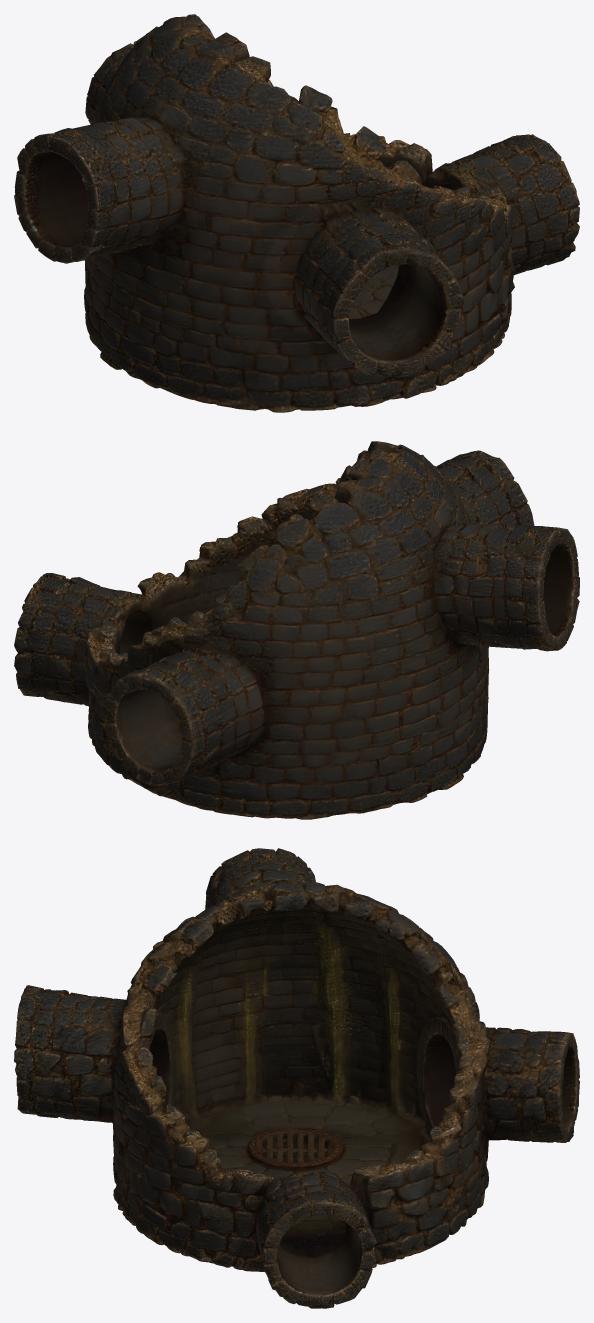
File: raw_chamber.glb
3 views of the same model, one above another, from view 1: azimuth 30°, elevation 25°; view 2: azimuth 150°, elevation 25°; view 3: azimuth 270°, elevation 25° (orthographic). The views are drawn at different scales.
Parts seen in each view (by area): view 1: tripo_node_71c5c588-a137-4d5c-85ac-c2144ae82180; view 2: tripo_node_71c5c588-a137-4d5c-85ac-c2144ae82180; view 3: tripo_node_71c5c588-a137-4d5c-85ac-c2144ae82180.
Boxes of the visible parts, box(x1,y1,x2,y2) form: tripo_node_71c5c588-a137-4d5c-85ac-c2144ae82180: box(14, 14, 579, 412); tripo_node_71c5c588-a137-4d5c-85ac-c2144ae82180: box(14, 441, 579, 819); tripo_node_71c5c588-a137-4d5c-85ac-c2144ae82180: box(14, 848, 579, 1308).
Bounding box in the file's own units: 0.9758 × 0.5389 × 1.
Materials: 1 (1 with a texture image).
